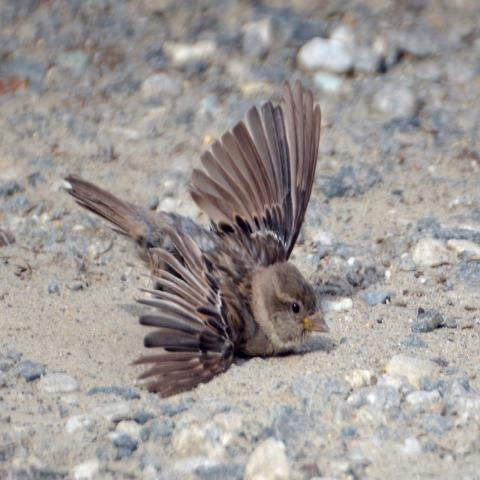bird: (62, 77, 332, 399)
